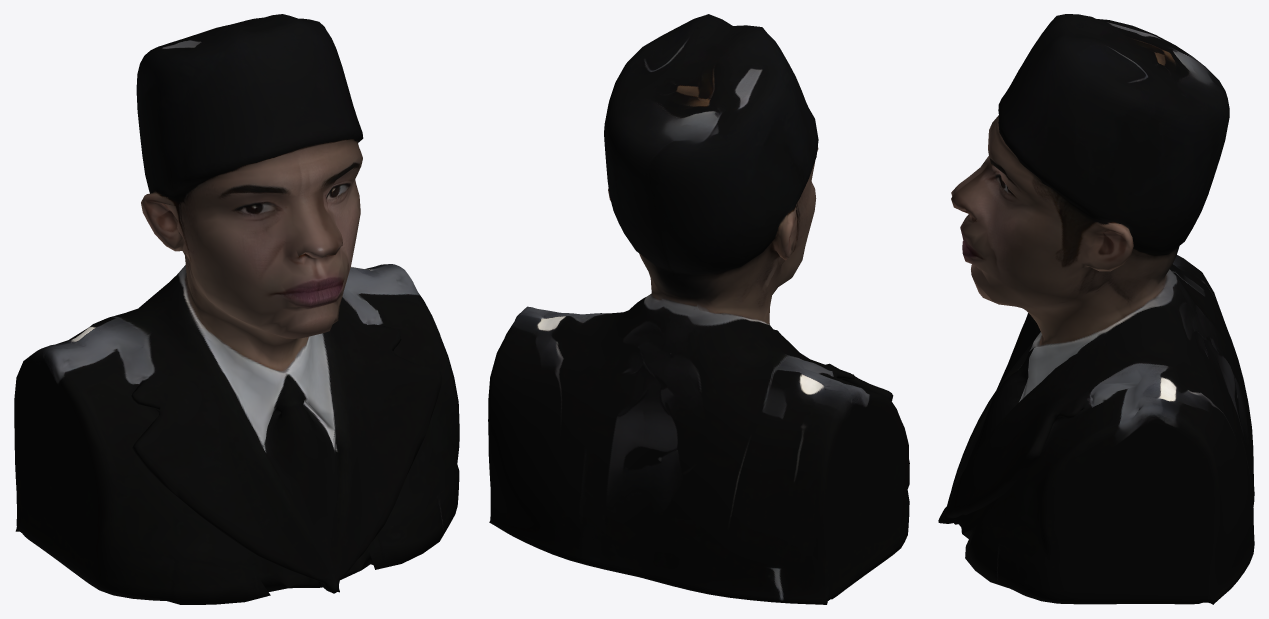
Rendered from soedirman.glb.
3 renders of one model, left to right at view 1: azimuth 30°, elevation 25°; view 2: azimuth 150°, elevation 25°; view 3: azimuth 270°, elevation 25°, orthographic. The views are drawn at different scales.
Visible parts, largest first — view 1: model; view 2: model; view 3: model.
Boxes of the visible parts, x1=… form: model: x1=14, y1=14, x2=459, y2=604; model: x1=488, y1=14, x2=909, y2=604; model: x1=938, y1=14, x2=1254, y2=604.
Bounding box in the file's own units: 1.37 × 1.9 × 1.1.
Materials: 1 (1 with a texture image).
